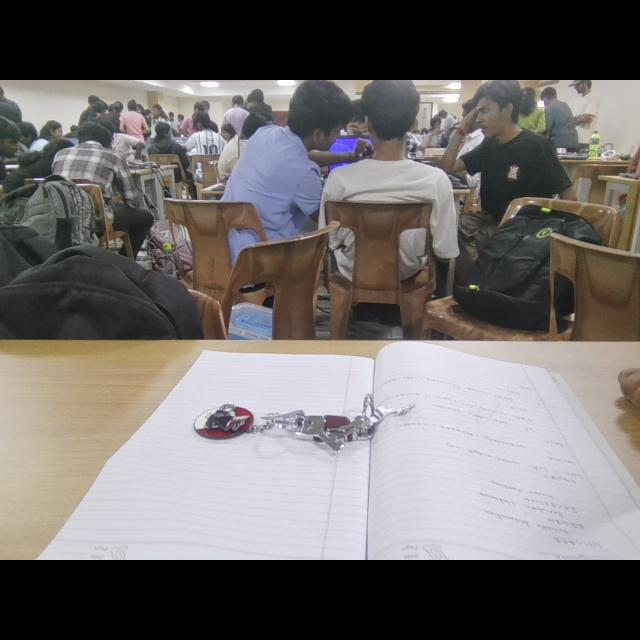keys: (183, 378, 423, 462)
